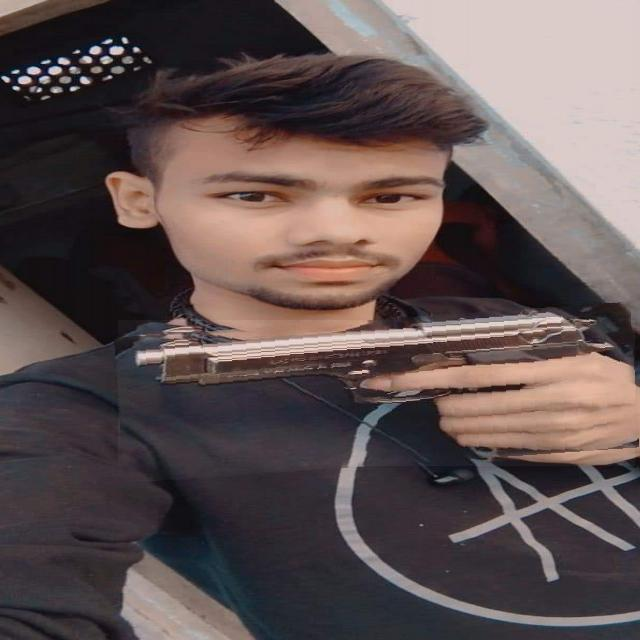handgun: (116, 311, 637, 475)
